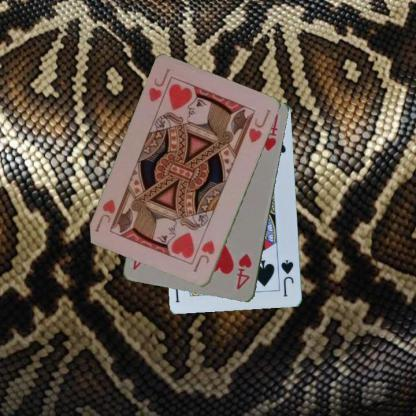4h: (234, 251, 253, 292)
Jh: (146, 66, 174, 110), (190, 237, 216, 274)
Js: (279, 257, 295, 298)
